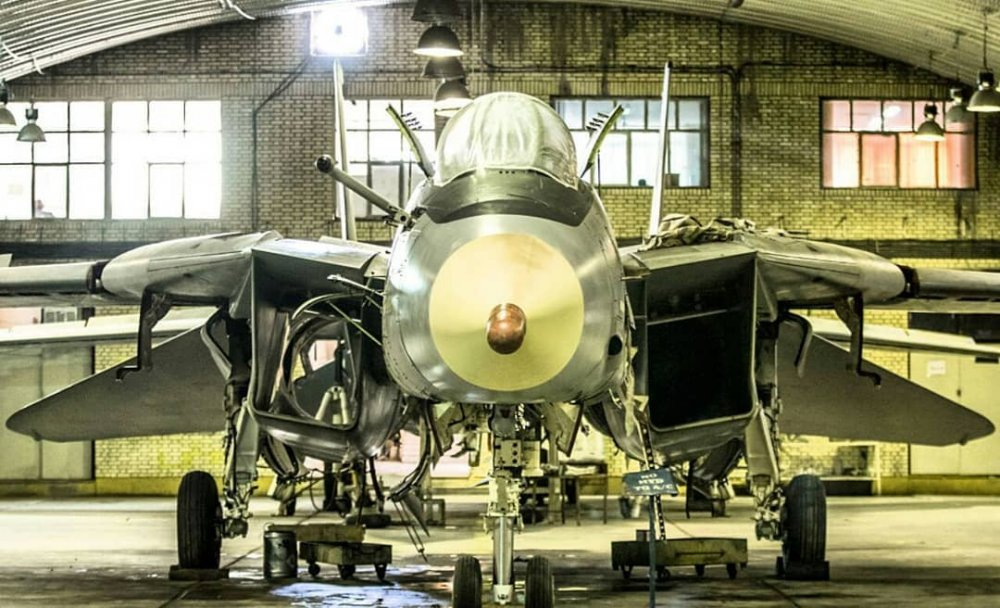F14: (1, 56, 1000, 608)
